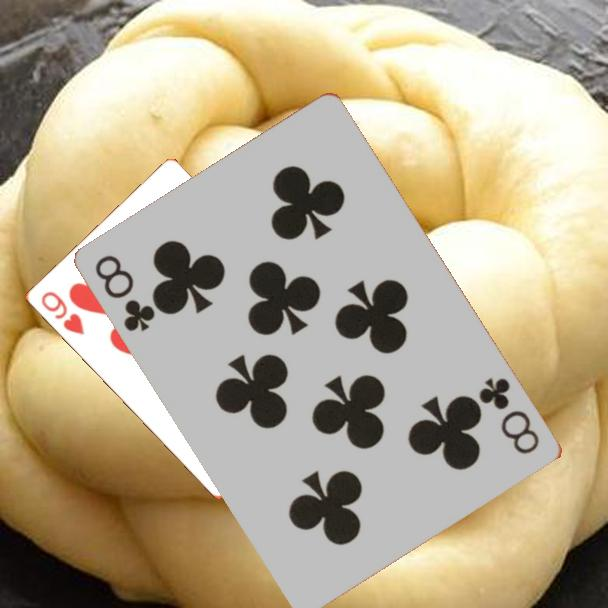c08: (475, 373, 543, 458), (92, 251, 159, 335)
h09: (37, 288, 87, 338)
